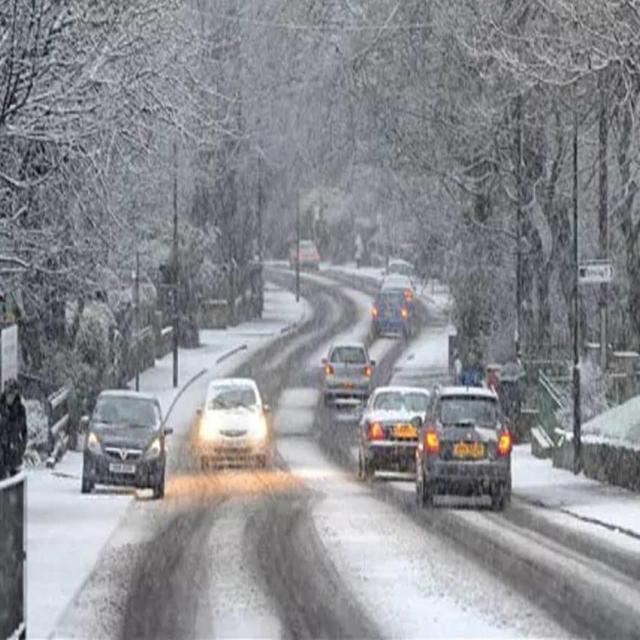Car: (413, 381, 516, 510), (78, 389, 176, 498), (355, 384, 440, 482), (194, 375, 273, 475), (321, 341, 379, 410), (370, 288, 413, 343), (290, 239, 322, 272)
